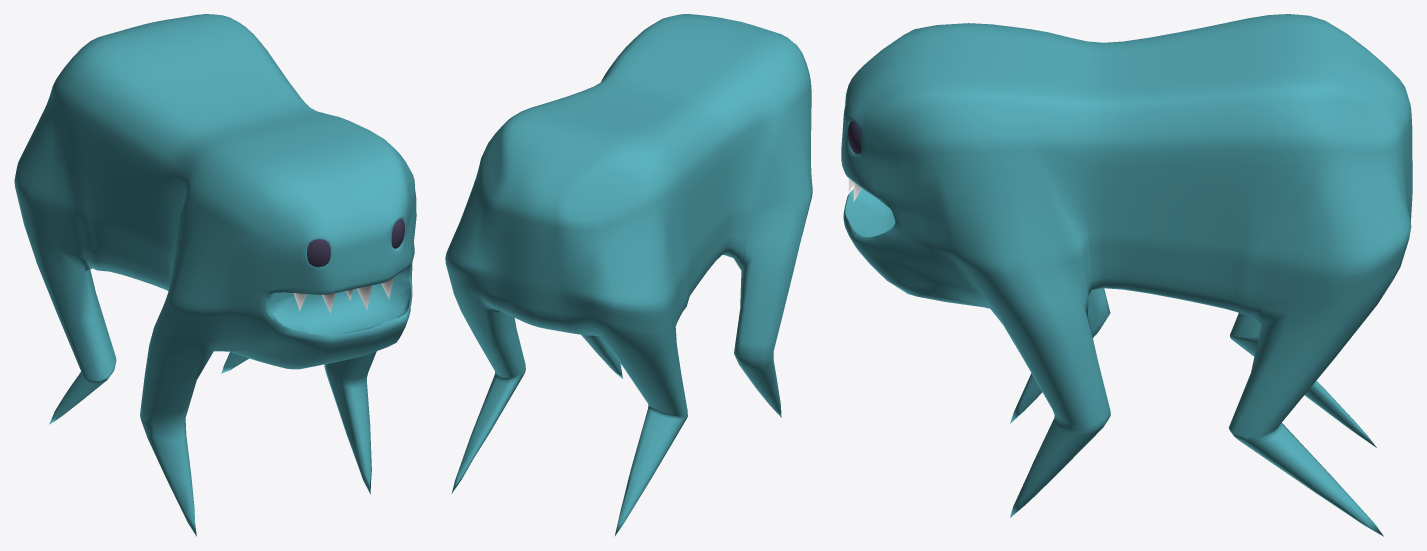
Rendered from Peanut.fbx.
3 views of the same model, side by side, from view 1: azimuth 30°, elevation 25°; view 2: azimuth 150°, elevation 25°; view 3: azimuth 270°, elevation 25° (orthographic). The views are drawn at different scales.
Parts seen in each view (by area): view 1: pPlane5, group2_pasted__pCone1, pasted__pSphere1; view 2: pPlane5; view 3: pPlane5.
Part boxes in pixels (left/top/right/bottom): pPlane5: left=14, top=14, right=416, bottom=536; group2_pasted__pCone1: left=293, top=278, right=393, bottom=313; pasted__pSphere1: left=307, top=239, right=330, bottom=267; pPlane5: left=445, top=14, right=812, bottom=536; pPlane5: left=841, top=14, right=1412, bottom=536.
Bounding box in the file's own units: 1.31 × 2.04 × 2.38.
